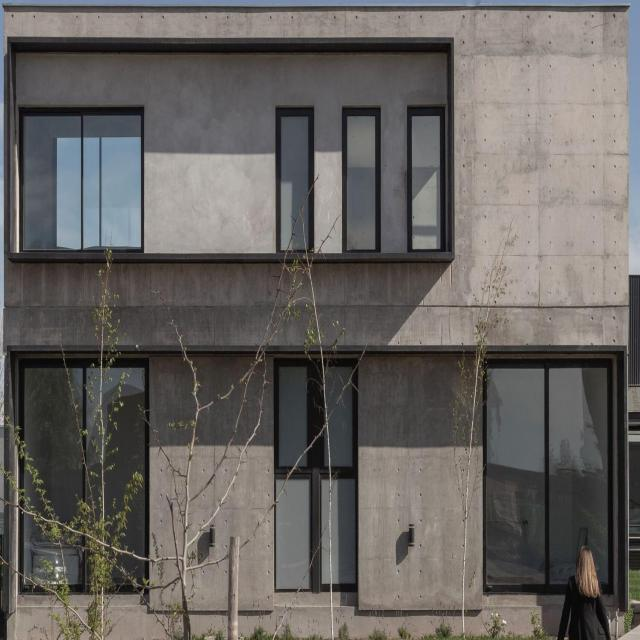window: (16, 362, 151, 600), (483, 358, 613, 597), (20, 106, 147, 251), (272, 357, 312, 590), (320, 359, 357, 589), (344, 108, 380, 257), (278, 106, 314, 255), (410, 101, 446, 249)
